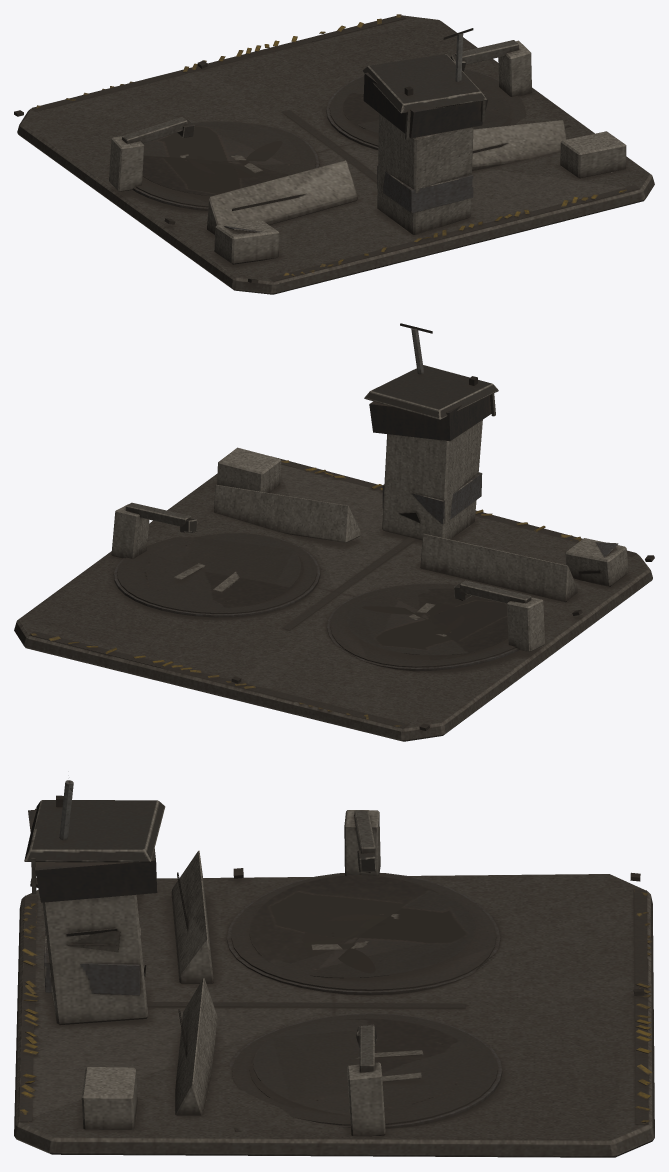
The model's file is ord_empyrean_wreck.fbx.
3 views of the same model, one above another, from view 1: azimuth 30°, elevation 25°; view 2: azimuth 150°, elevation 25°; view 3: azimuth 270°, elevation 25° (orthographic). The views are drawn at different scales.
Visible parts, largest first — view 1: base_bar; view 2: base_bar; view 3: base_bar.
Boxes of the visible parts, x1=… form: base_bar: x1=14, y1=14, x2=654, y2=294; base_bar: x1=14, y1=323, x2=654, y2=741; base_bar: x1=14, y1=780, x2=654, y2=1157.
Bounding box in the file's own units: 3034 × 1532 × 3013.
Materials: 2 (2 with a texture image).
